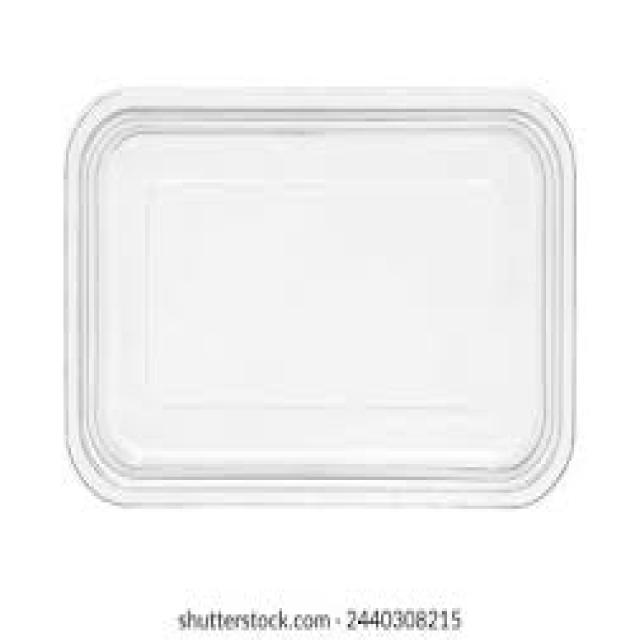disposable: (48, 59, 612, 540)
